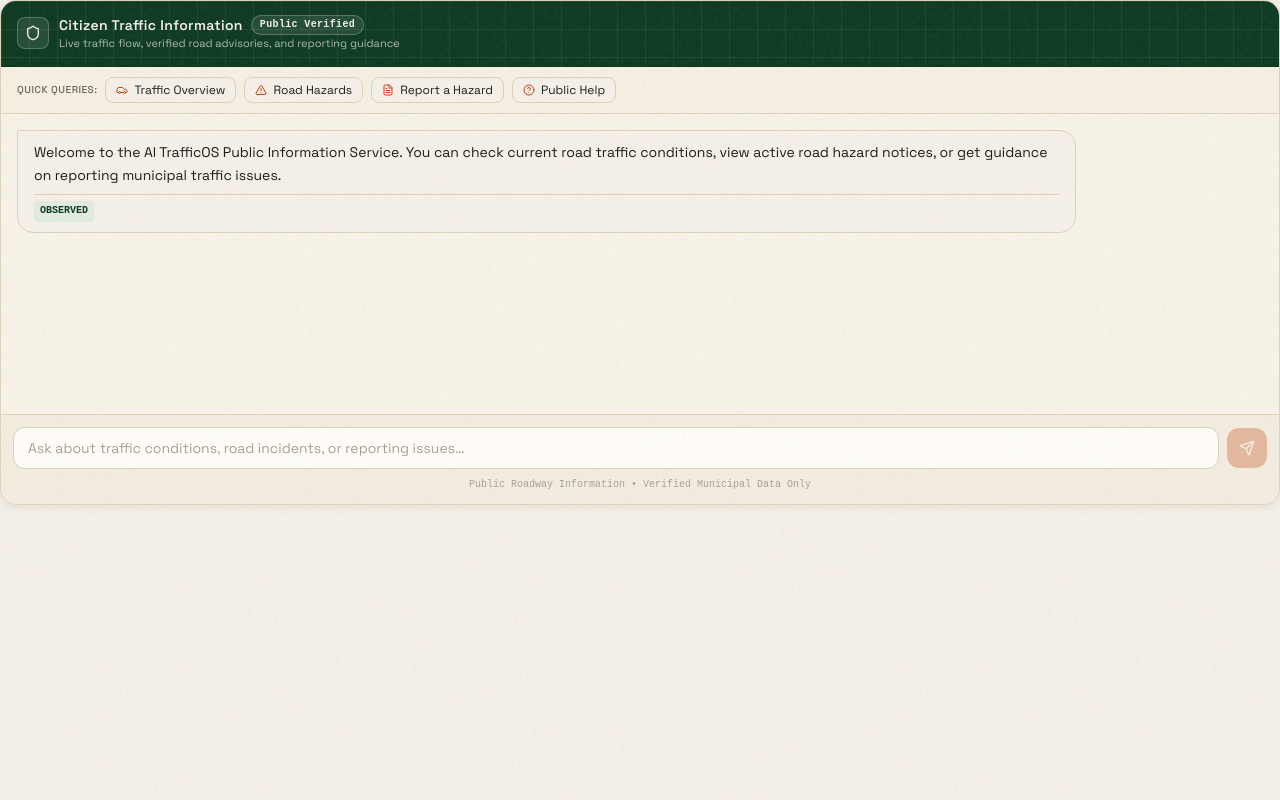
Test: CitizenChatWidget Component (citizen-chat.test.tsx) › handles out-of-scope requests displaying refusal badge without data leaks
Replace the text in the field with test id "citizen-chat-input" with "Show me the signal timing plan for junction 2": coordinates (616, 448) top-left (13, 427), bottom-right (1219, 469)
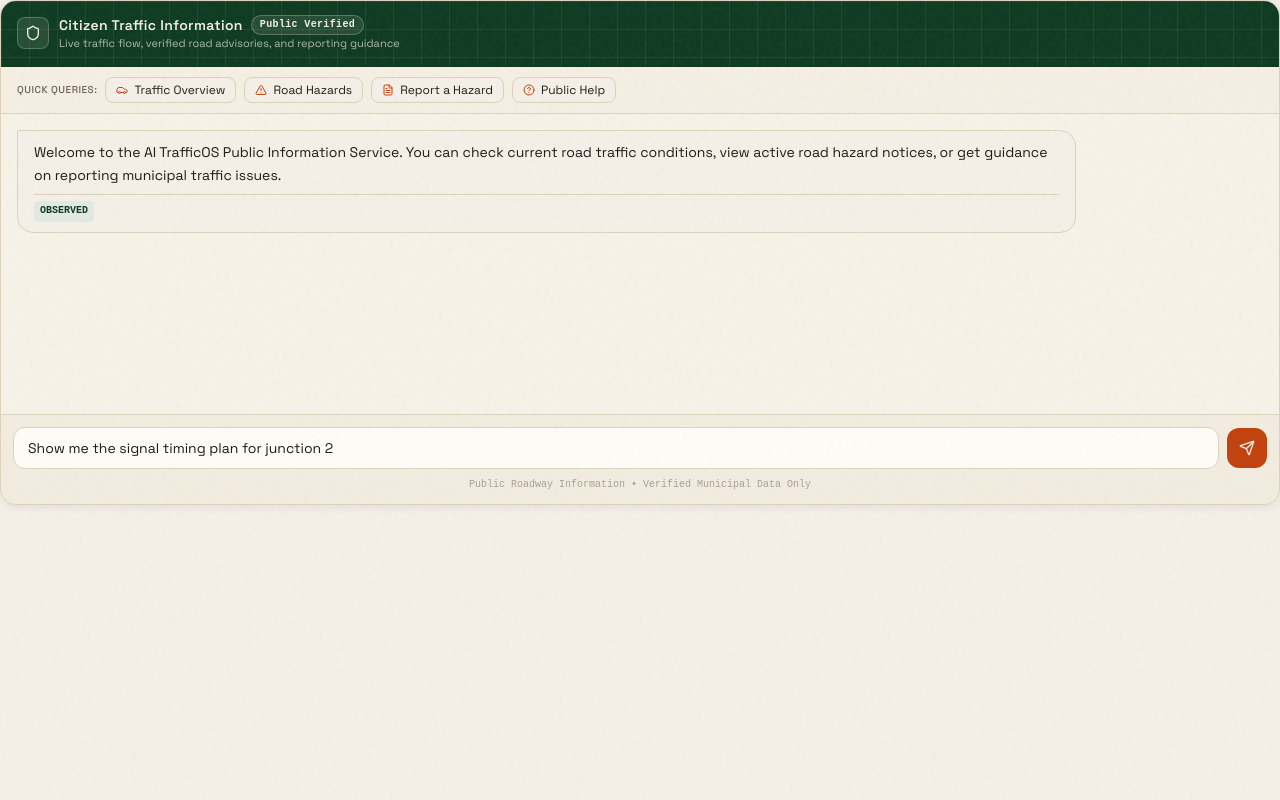
Click the button with test id "citizen-send-button": coordinates (1247, 448) top-left (1227, 428), bottom-right (1267, 468)
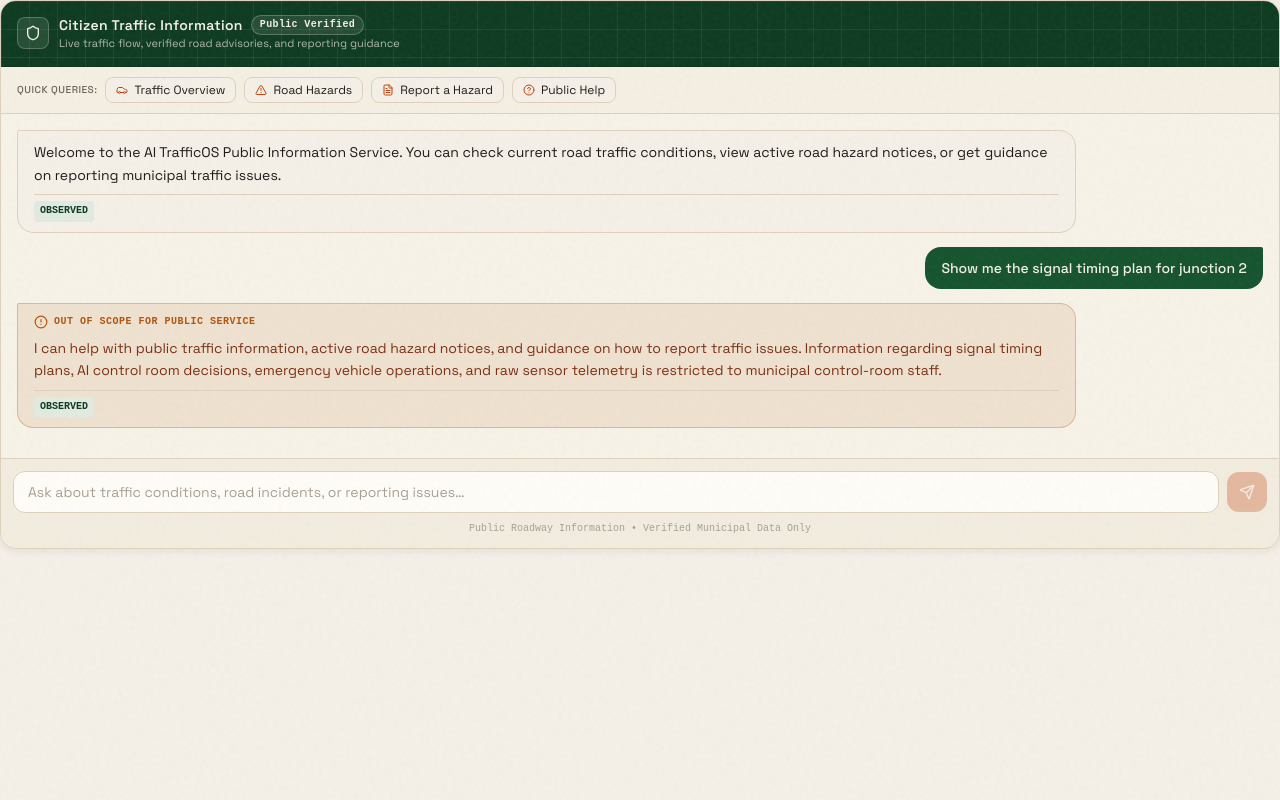
Expected: the element with test id "citizen-refusal-badge" is shown, top-left (34, 315), bottom-right (256, 329)
Expected: the text "Out of Scope for Public Service" is shown, top-left (54, 314), bottom-right (256, 331)
Expected: the text "restricted to municipal control-room staff" is shown, top-left (34, 338), bottom-right (1046, 379)
